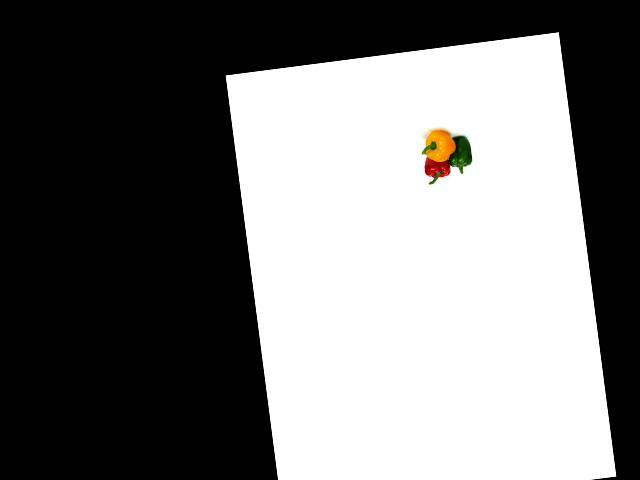bell_pepper: (418, 149, 456, 188)
